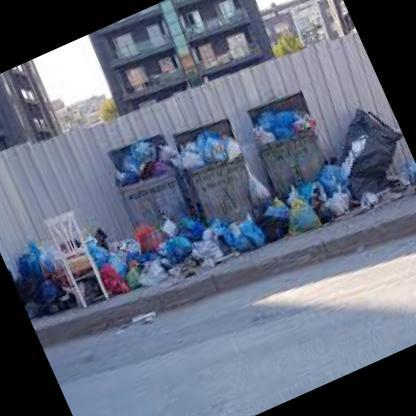Garbage: (334, 93, 415, 220), (321, 102, 409, 210), (80, 206, 176, 300), (118, 210, 222, 292), (266, 163, 360, 233), (6, 238, 78, 324), (106, 130, 179, 192), (174, 122, 244, 178), (205, 212, 278, 262), (250, 98, 317, 150), (395, 145, 415, 199)
